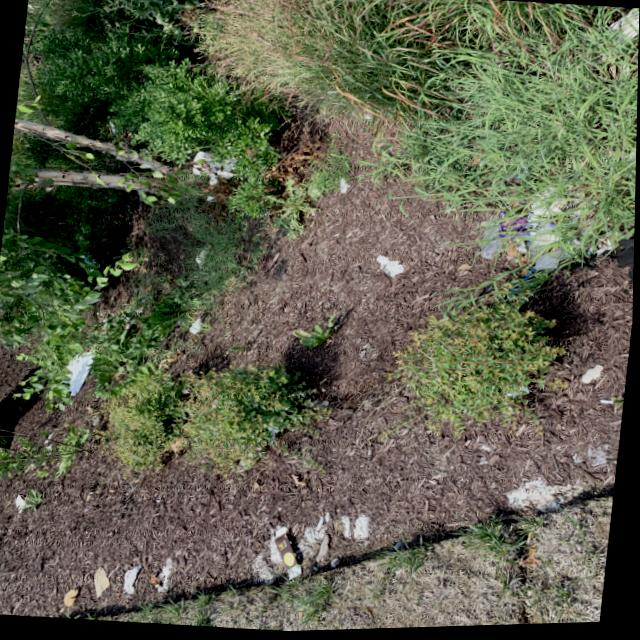Cardboard: (268, 523, 314, 584)
Paper: (63, 342, 96, 399), (374, 251, 408, 283), (85, 564, 115, 598), (121, 561, 142, 598), (194, 245, 212, 271), (189, 317, 205, 335)
Plastic: (490, 207, 530, 252), (523, 213, 565, 251)
